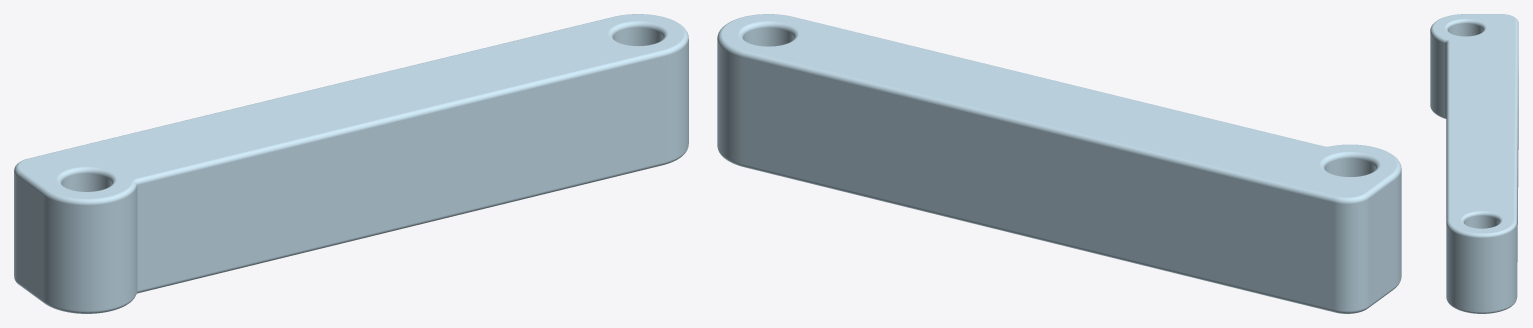
Rendered from Joint1.gltf.
3 renders of one model, left to right at view 1: azimuth 30°, elevation 25°; view 2: azimuth 150°, elevation 25°; view 3: azimuth 270°, elevation 25°, orthographic. The views are drawn at different scales.
Parts seen in each view (by area): view 1: Part 1; view 2: Part 1; view 3: Part 1.
Part boxes in pixels (x1=…): Part 1: x1=14, y1=14, x2=688, y2=313; Part 1: x1=717, y1=14, x2=1401, y2=313; Part 1: x1=1430, y1=14, x2=1518, y2=313.
Bounding box in the file's own units: 0.1484 × 0.025 × 0.025.
